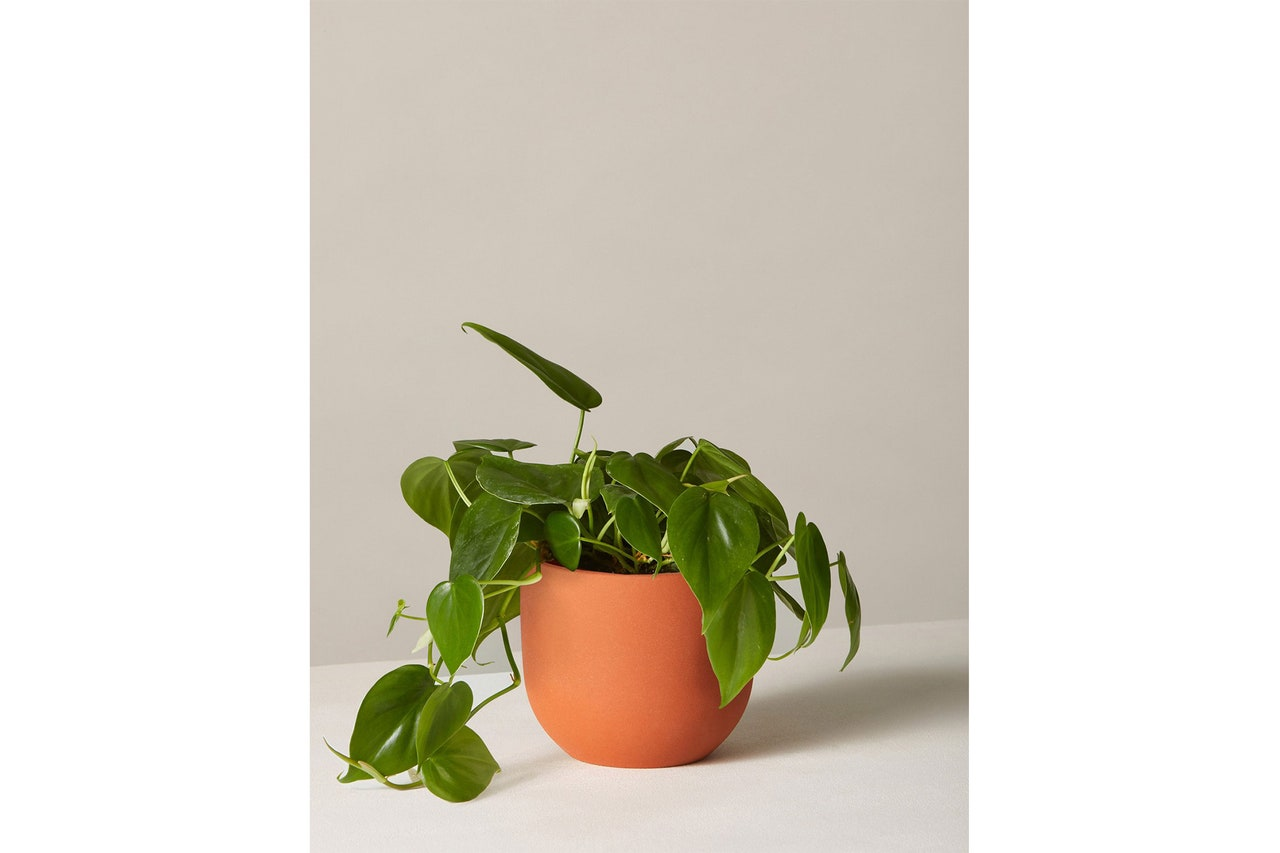tanaman: (395, 332, 825, 797)
